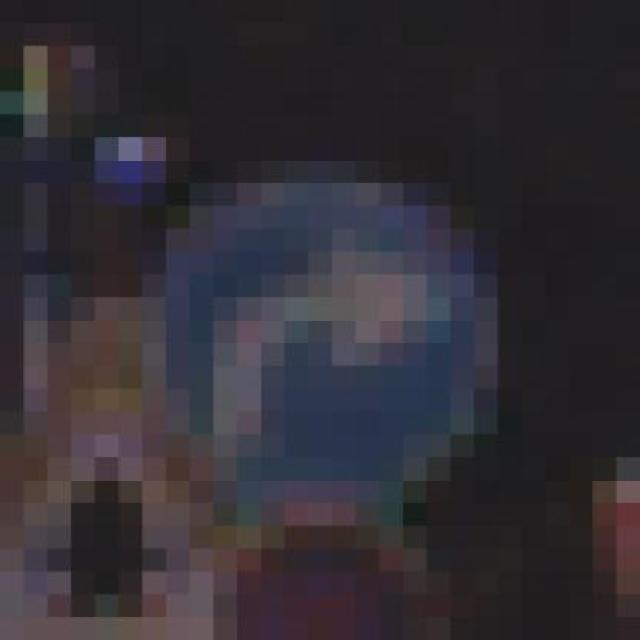Turn right ahead: (142, 137, 546, 526)
